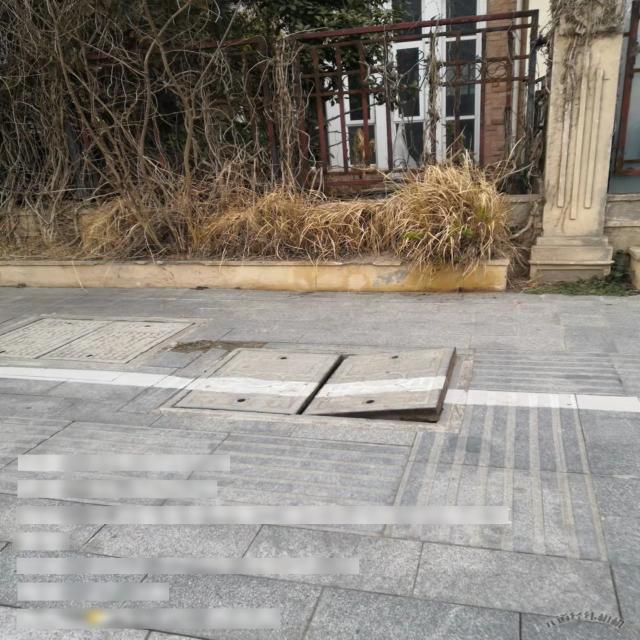Good: (0, 314, 197, 370)
Lose: (159, 345, 472, 432)
